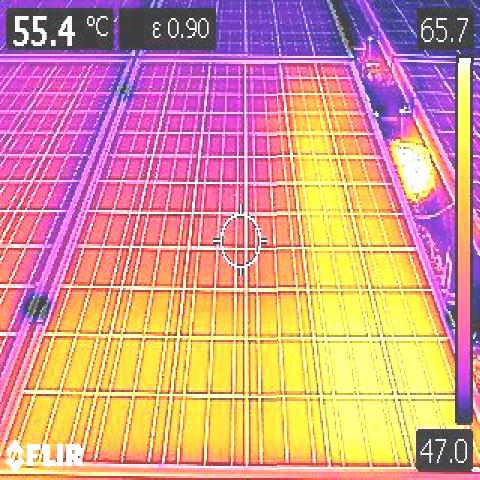fault: (278, 63, 480, 471)
